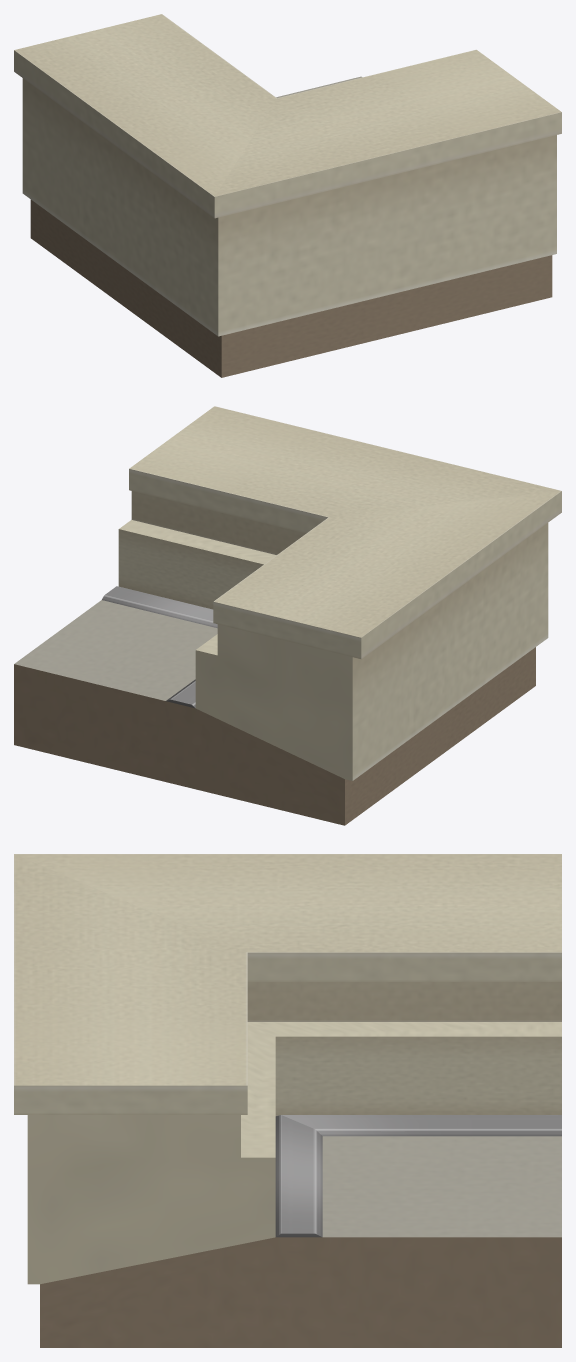
File: set_roof_outside_b_corner.fbx
3 renders of one model, top to bottom at view 1: azimuth 30°, elevation 25°; view 2: azimuth 150°, elevation 25°; view 3: azimuth 270°, elevation 25°, orthographic. The views are drawn at different scales.
Visible parts, largest first — view 1: set_roof_outside_b_corner; view 2: set_roof_outside_b_corner; view 3: set_roof_outside_b_corner.
Part boxes in pixels (x1,y1,x2,y2): set_roof_outside_b_corner: [14, 14, 561, 377]; set_roof_outside_b_corner: [14, 406, 561, 825]; set_roof_outside_b_corner: [14, 854, 561, 1347].
Size of the model in its own units: 229 by 121 by 229.
